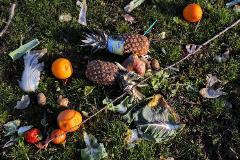organic: (82, 25, 154, 61), (86, 59, 147, 101), (132, 108, 186, 142), (23, 52, 47, 94), (53, 57, 71, 87), (56, 110, 82, 130), (185, 3, 209, 23), (21, 128, 43, 144)
